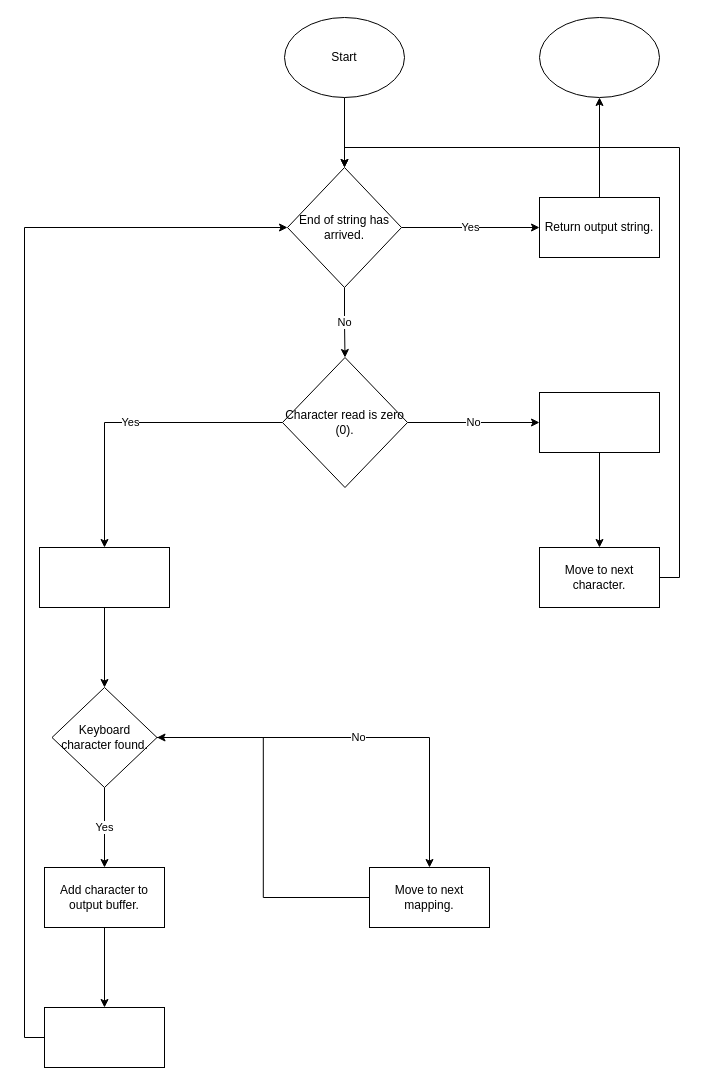
Image size: 705x1085. Some labels were removed from this diagram. Each missing label, with the centre of its shape:
"Add character to buffer." goes at pixel 599 422.
"End" goes at pixel 599 57.
"Find string's mapping with any keyboard character." goes at pixel 104 577.
"Move to next input character." goes at pixel 104 1037.
